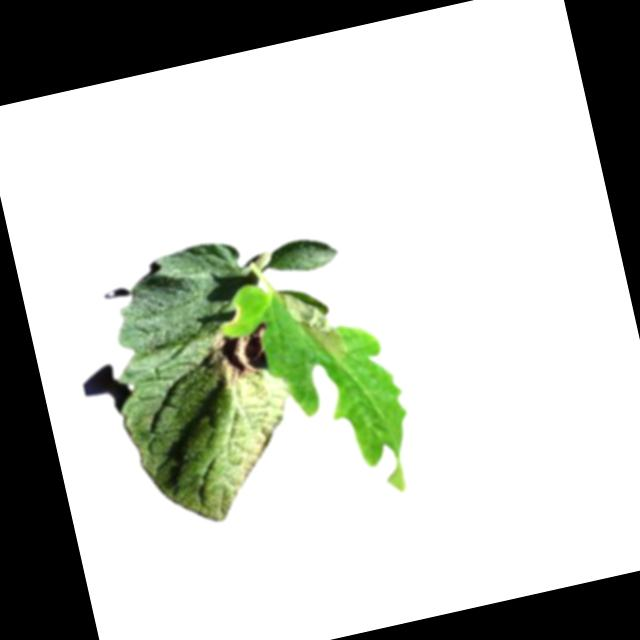Late_blight: (275, 280, 347, 370), (209, 321, 278, 387)
